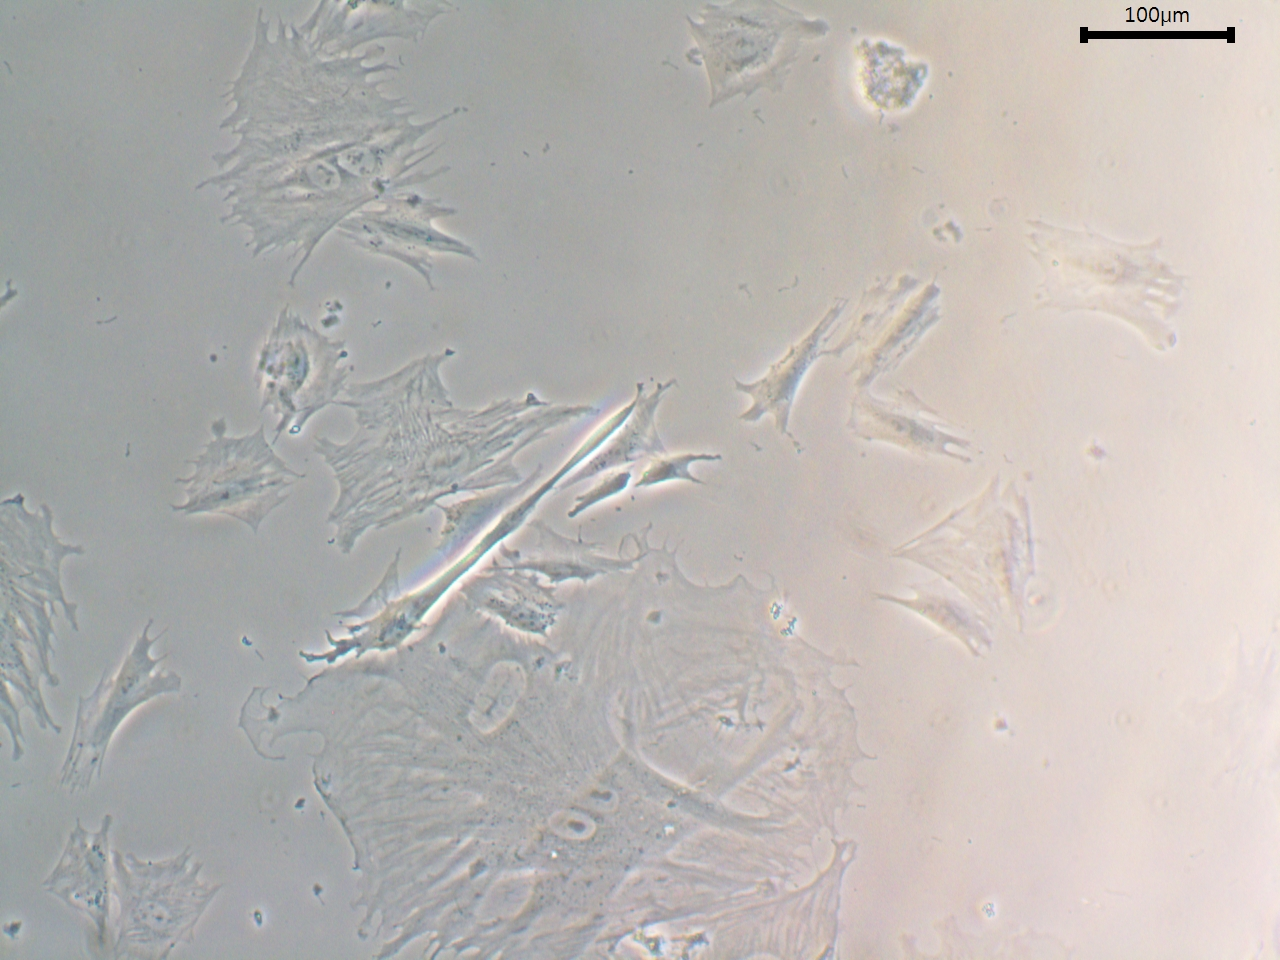dividing: (201, 24, 429, 275)
medium-polygonal: (39, 603, 195, 814), (734, 293, 847, 448), (349, 188, 496, 282), (833, 387, 996, 471), (494, 533, 645, 590)
medium-spread: (321, 359, 586, 553), (1011, 207, 1196, 374), (888, 477, 1075, 629), (163, 412, 310, 533), (680, 1, 831, 111), (253, 308, 366, 441), (839, 264, 943, 397)
spindle: (543, 374, 652, 494), (640, 447, 737, 502), (567, 461, 638, 521)
